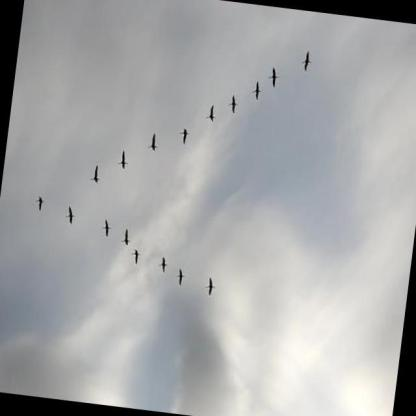bird: (266, 65, 281, 90), (116, 148, 131, 172), (89, 162, 103, 187), (176, 125, 191, 148), (203, 102, 218, 124), (146, 132, 161, 154), (63, 204, 77, 227), (119, 226, 133, 248), (156, 253, 170, 275), (300, 50, 313, 73), (251, 79, 264, 102), (227, 92, 240, 115), (174, 266, 187, 289), (204, 274, 217, 297), (100, 217, 113, 239), (33, 193, 46, 214), (129, 247, 142, 266)
